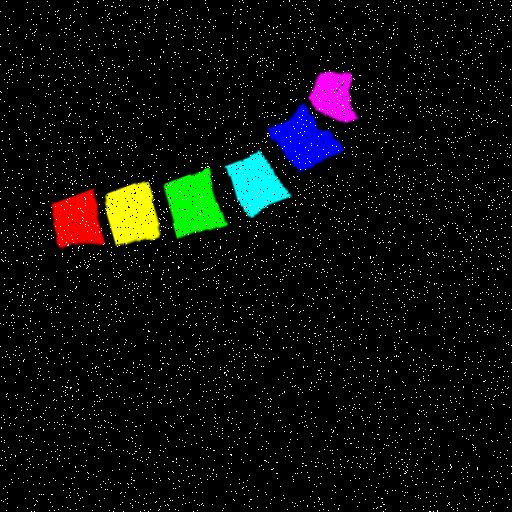L1: (54, 189, 106, 245)
L2: (107, 182, 161, 244)
L3: (166, 169, 227, 237)
L4: (226, 152, 291, 218)
L5: (269, 105, 344, 173)
S1: (309, 73, 358, 125)
